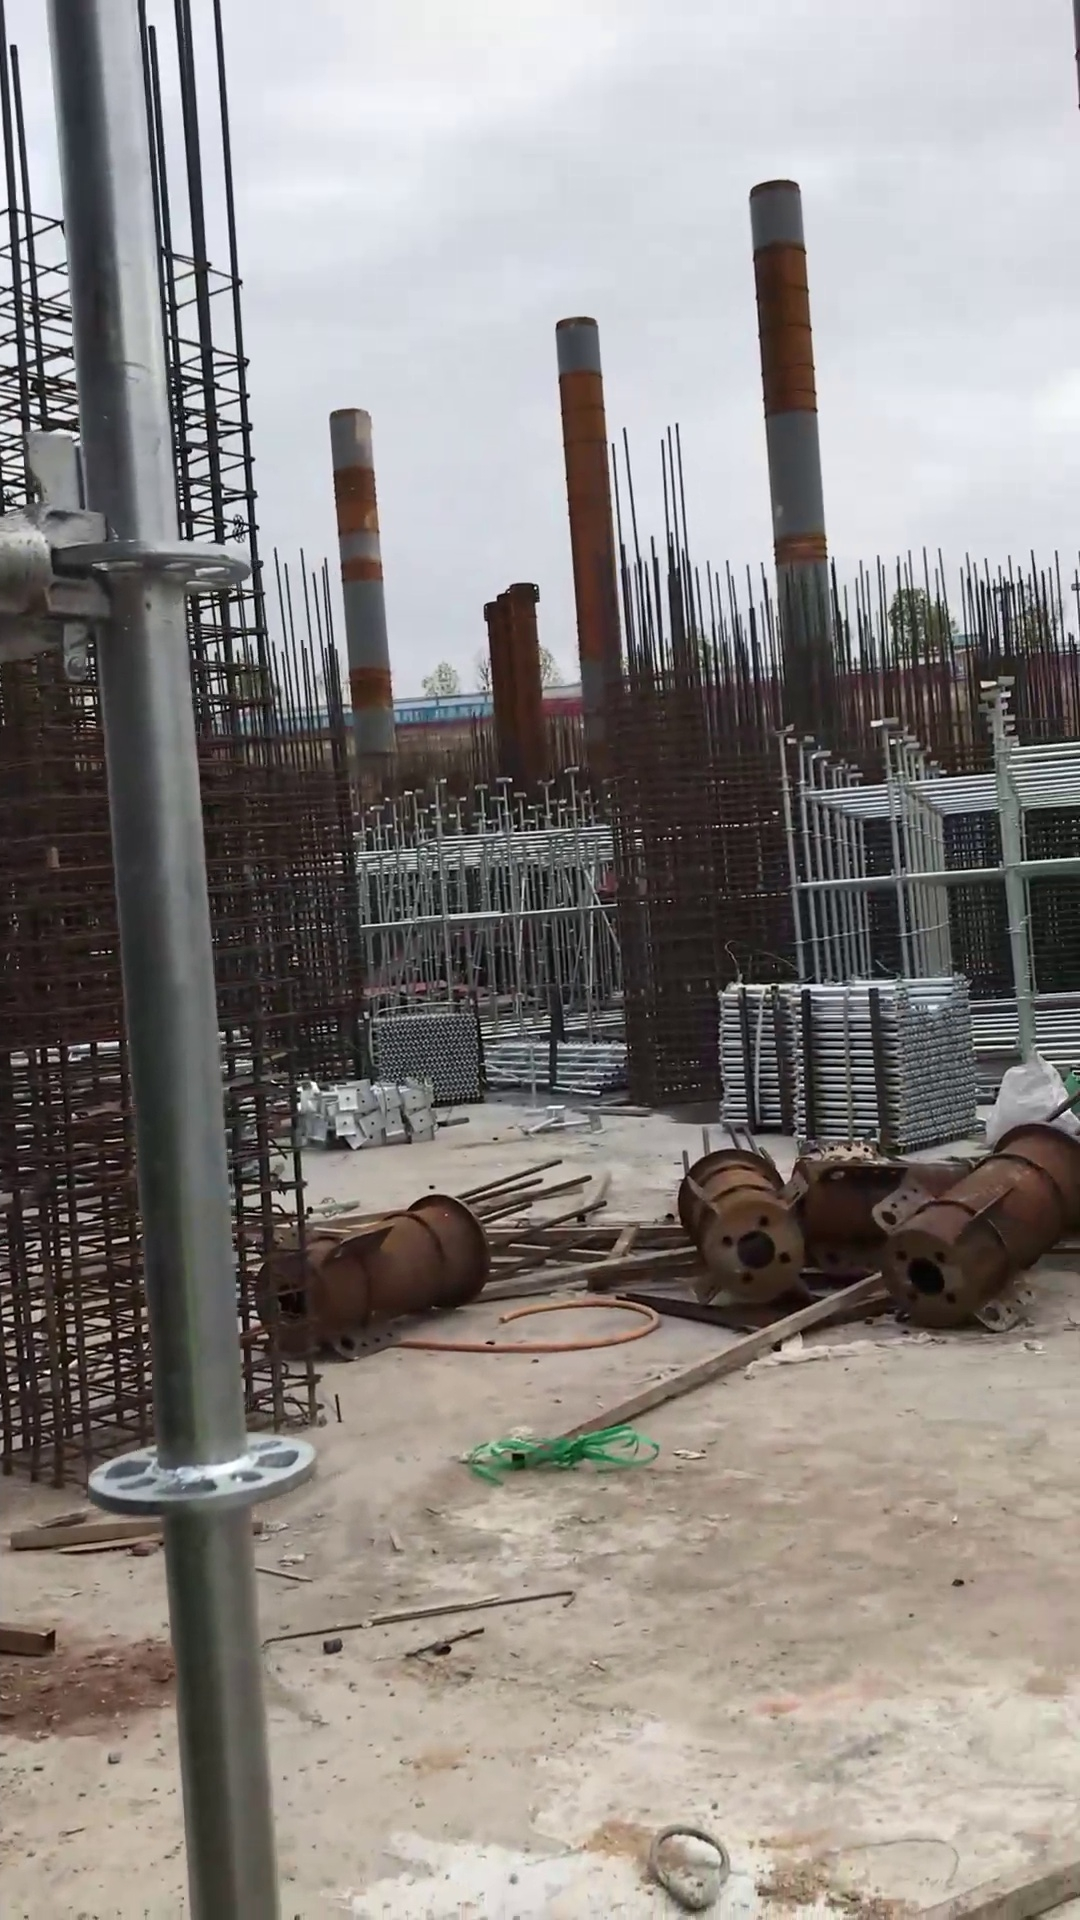scaffold: (713, 972, 988, 1153), (369, 1009, 484, 1104)
slogan: (392, 699, 497, 723)
